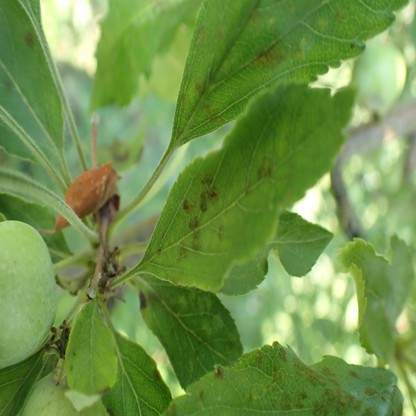scab: (181, 0, 345, 122), (167, 344, 400, 416), (171, 291, 235, 356), (139, 286, 152, 328), (188, 219, 201, 249), (258, 156, 273, 179), (20, 159, 34, 181), (278, 161, 294, 179), (176, 240, 188, 263), (200, 174, 214, 189), (182, 200, 195, 216), (25, 31, 34, 52), (200, 193, 208, 215), (209, 191, 220, 204), (152, 369, 161, 384), (174, 271, 185, 282), (4, 79, 11, 92), (219, 226, 225, 241), (244, 182, 249, 197), (155, 247, 162, 256), (161, 229, 167, 239)
